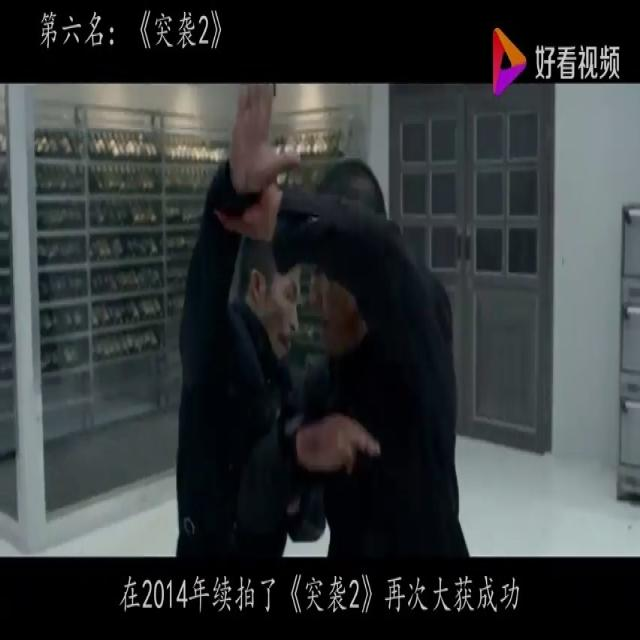fight: (160, 84, 476, 562)
